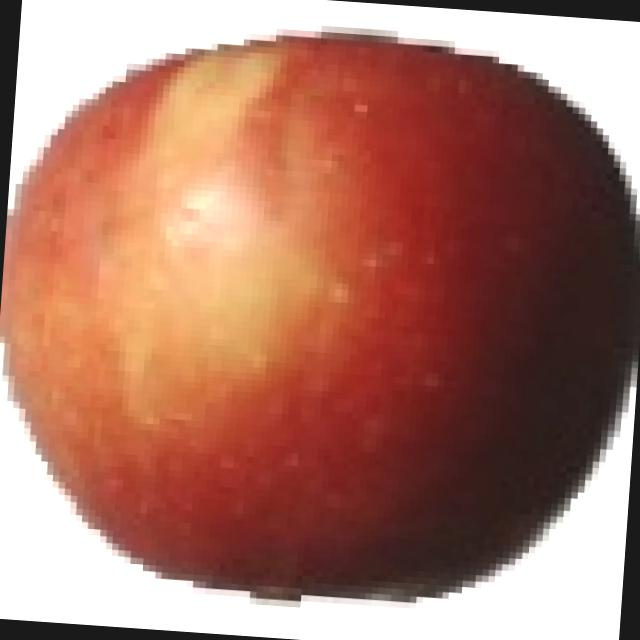apple: (0, 8, 640, 628)
